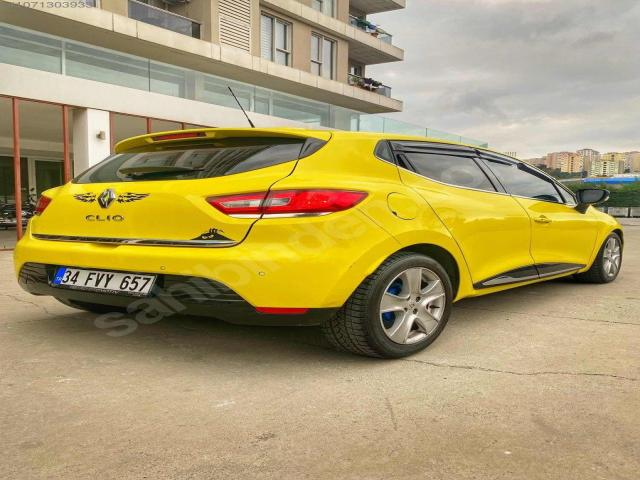plaka: (51, 268, 156, 295)
